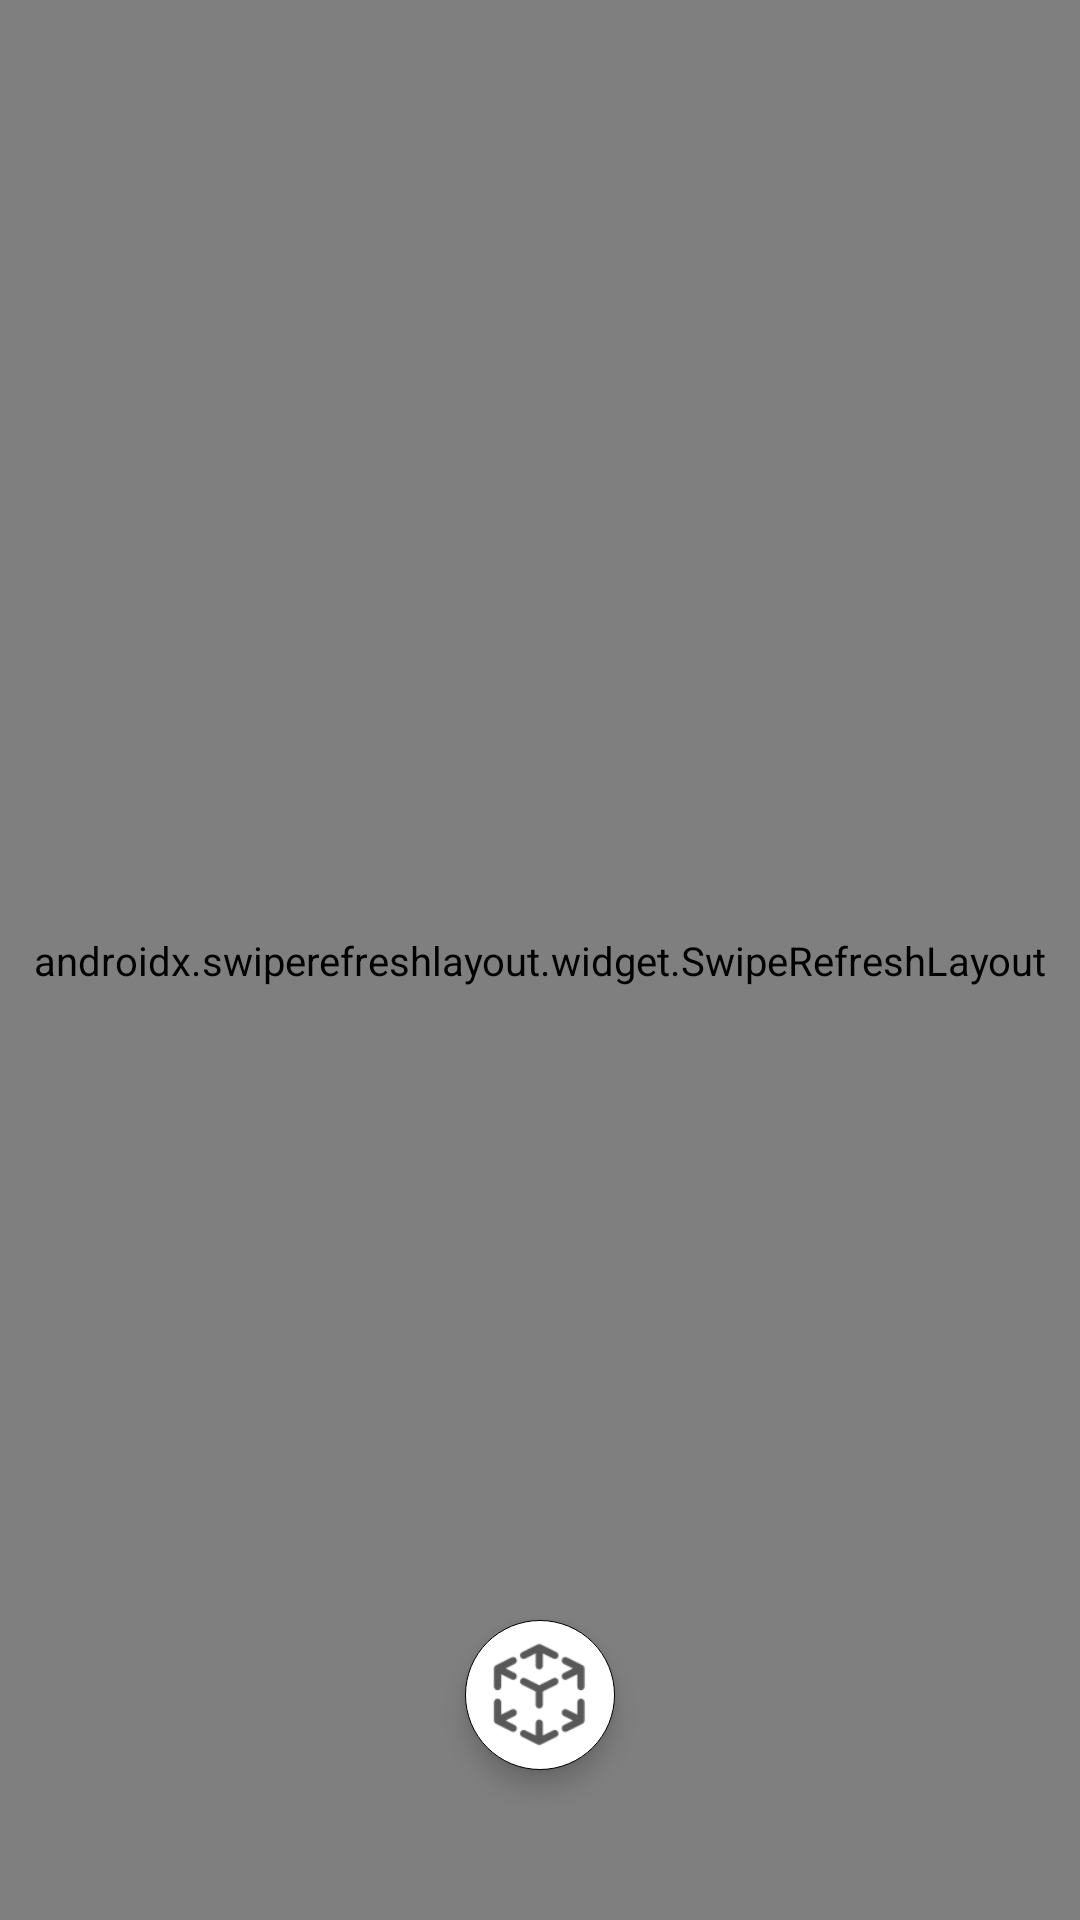

Icons on this 1080*1920 Android screen, each with its box as (x1, y1, x2, y2):
ti ar: (465, 1620, 615, 1770)
